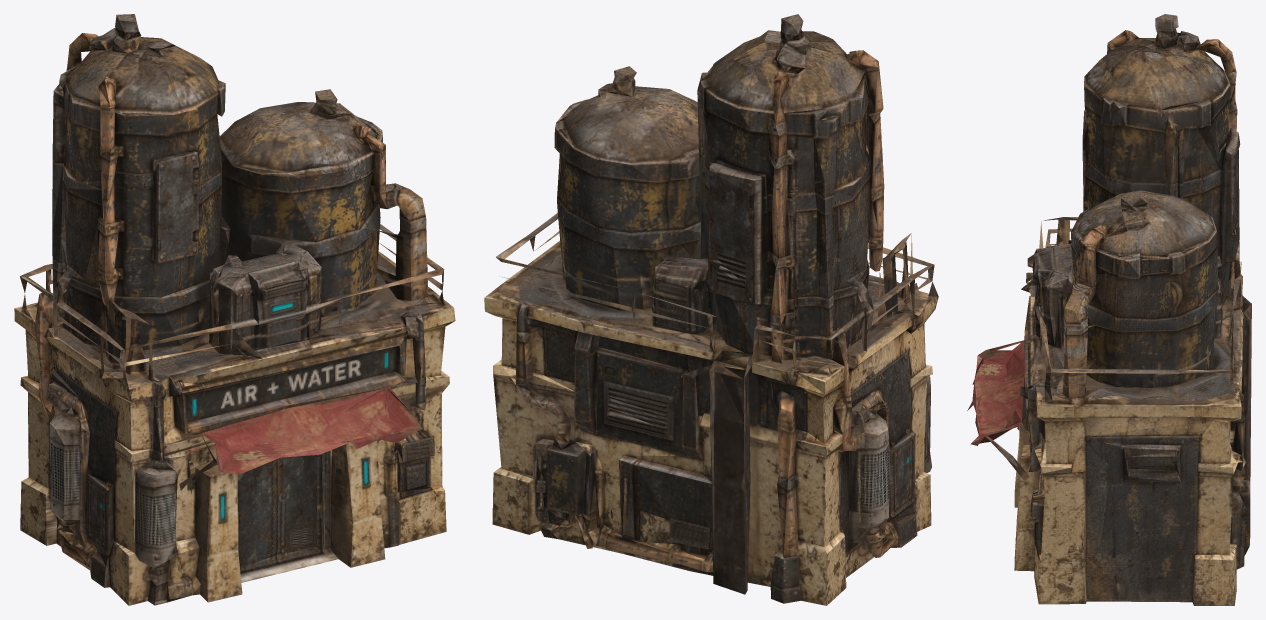
The model's file is water.glb.
3 renders of one model, left to right at view 1: azimuth 30°, elevation 25°; view 2: azimuth 150°, elevation 25°; view 3: azimuth 270°, elevation 25°, orthographic. The views are drawn at different scales.
Bounding box in the file's own units: 1.3 × 1.9 × 1.03.
Materials: 1 (1 with a texture image).
